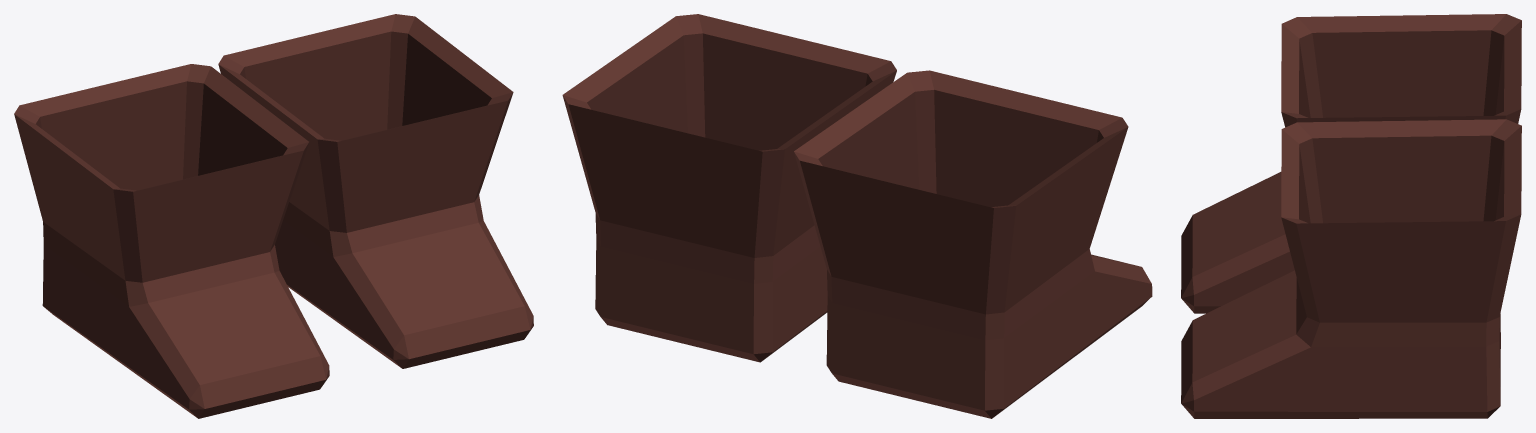
Rendered from shoes.fbx.
3 renders of one model, left to right at view 1: azimuth 30°, elevation 25°; view 2: azimuth 150°, elevation 25°; view 3: azimuth 270°, elevation 25°, orthographic. The views are drawn at different scales.
Parts seen in each view (by area): view 1: shoes; view 2: shoes; view 3: shoes.
Part boxes in pixels (x1=…): shoes: x1=14, y1=14, x2=533, y2=418; shoes: x1=562, y1=14, x2=1152, y2=418; shoes: x1=1181, y1=14, x2=1521, y2=418.
Bounding box in the file's own units: 26.21 × 12.89 × 18.25.
